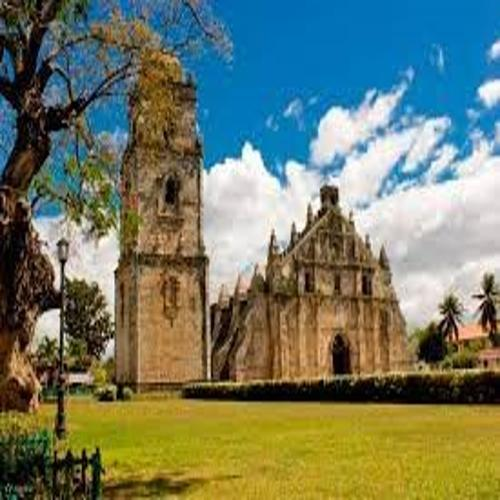Paoay Church: (108, 36, 430, 405)
